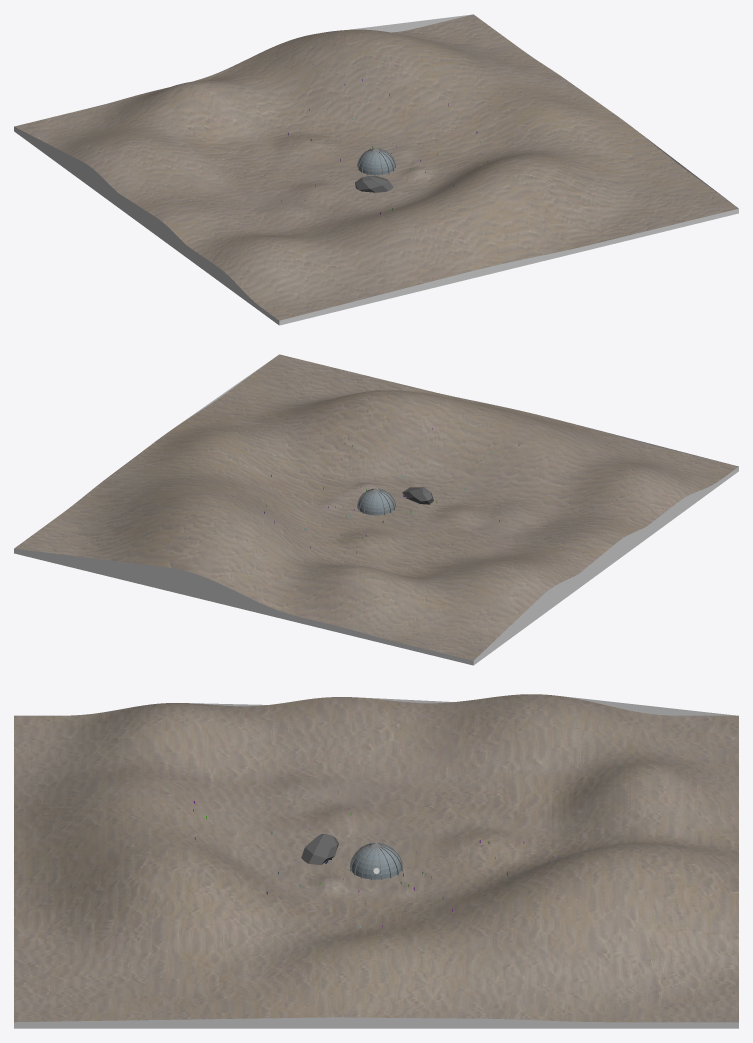
File: 深海セット（仮）1.fbx
3 renders of one model, top to bottom at view 1: azimuth 30°, elevation 25°; view 2: azimuth 150°, elevation 25°; view 3: azimuth 270°, elevation 25°, orthographic. The views are drawn at different scales.
Visible parts, largest first — view 1: ground, 球, 立方体.022; view 2: ground, 球; view 3: ground, 球, 立方体.022.
Boxes of the visible parts, x1,y1,x2,y2 form: ground: (14, 14, 738, 325); 球: (357, 148, 395, 175); 立方体.022: (355, 176, 393, 192); ground: (14, 354, 738, 665); 球: (357, 488, 395, 515); ground: (14, 694, 738, 1028); 球: (350, 842, 402, 879); 立方体.022: (301, 833, 338, 864).
Size of the model in its own units: 263 by 27.27 by 263.
Materials: 10 (2 with a texture image).
